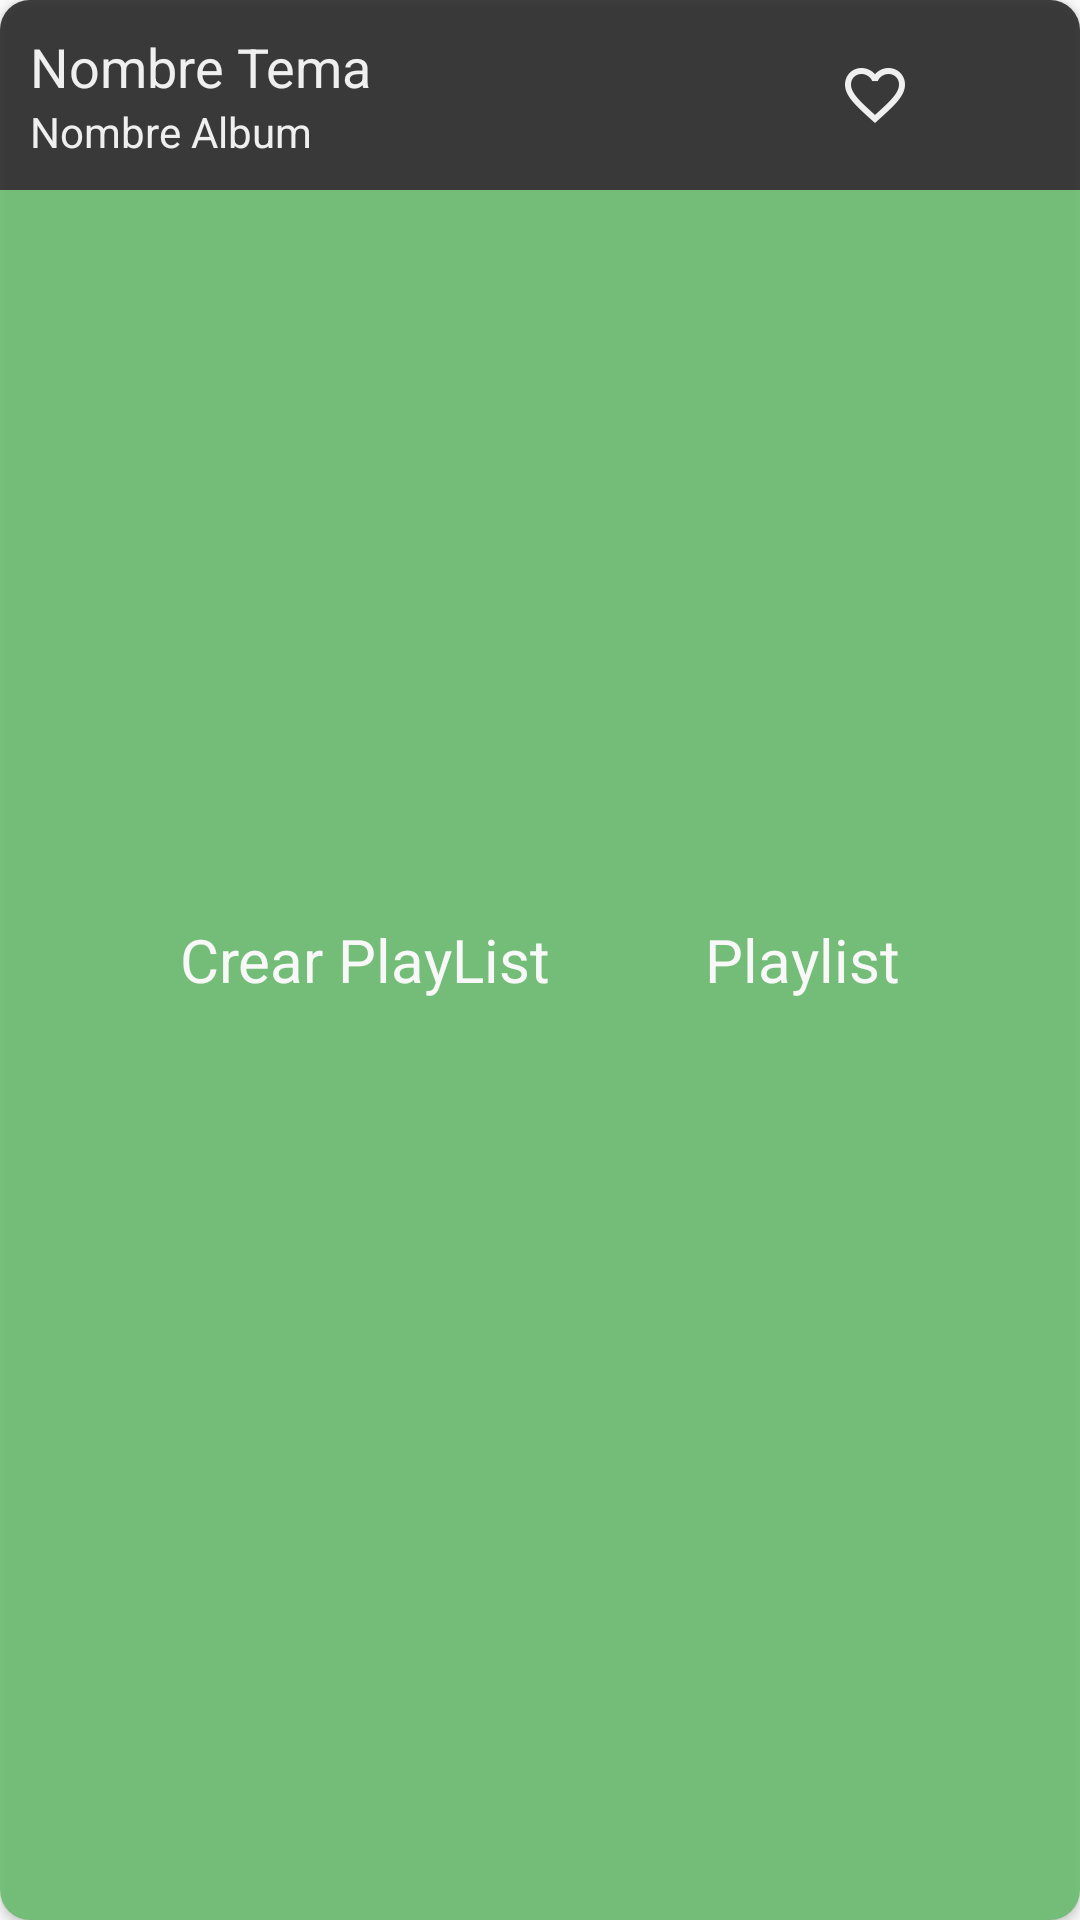

Where icons sit on this 1080px×1920px app screen, as (x1, y1, x2, y2):
favorite no seleccion: (845, 68, 905, 123)
